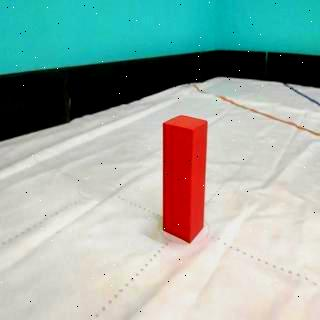redbox: (162, 114, 206, 243)
